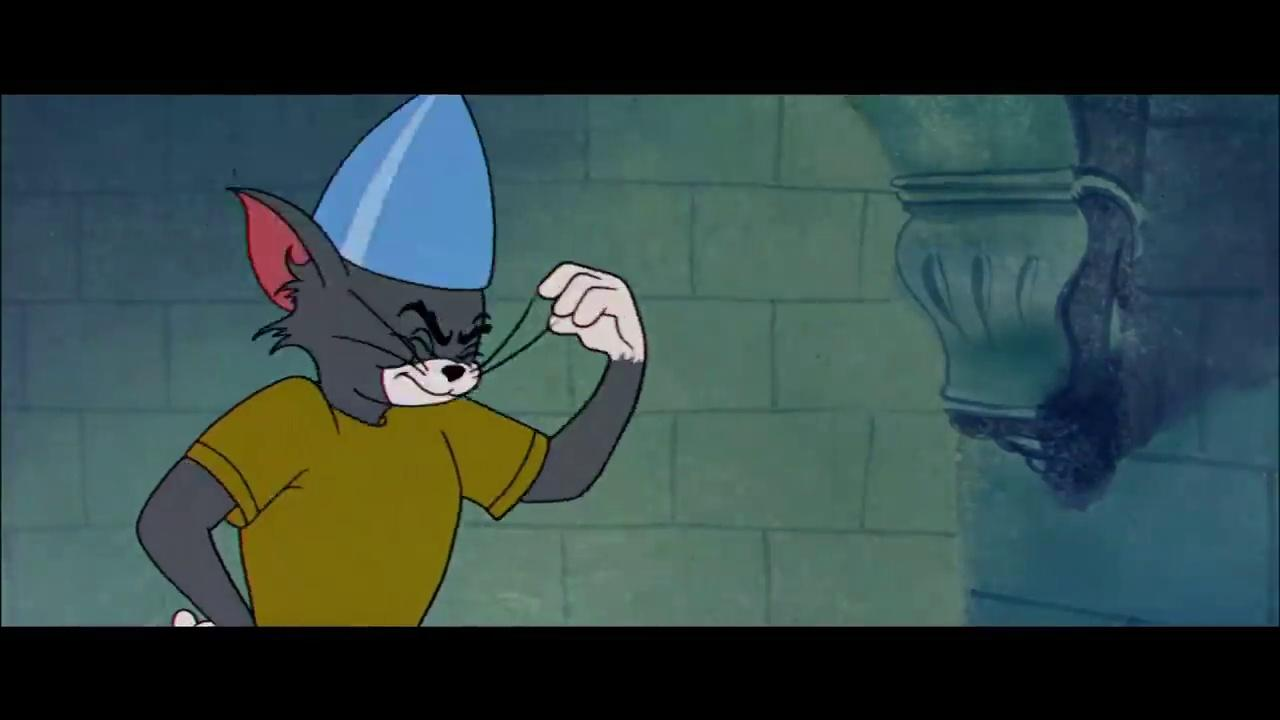Tom: (136, 184, 651, 628)
